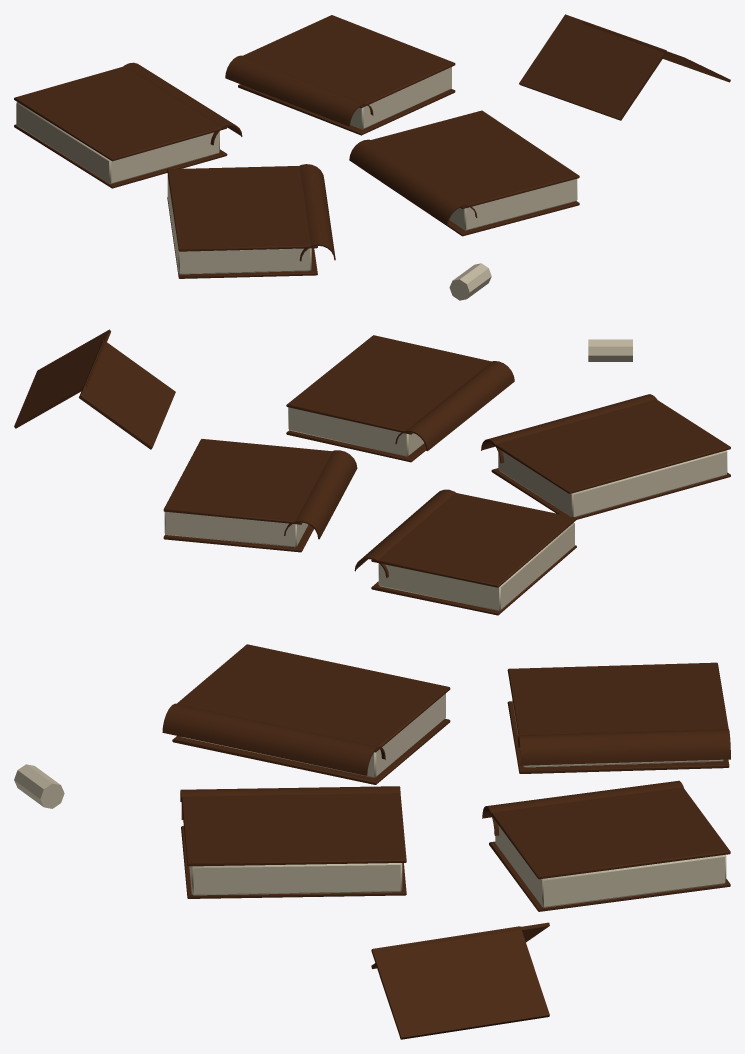
File: buecher_kaputt.glb
The picture shows the model from 3 angles, top to bottom: view 1: azimuth 30°, elevation 25°; view 2: azimuth 150°, elevation 25°; view 3: azimuth 270°, elevation 25°; orthographic projection. The views are drawn at different scales.
Visible parts, largest first — view 1: buecher_kaputt; view 2: buecher_kaputt; view 3: buecher_kaputt.
Boxes of the visible parts, x1,y1,x2,y2 form: buecher_kaputt: [14, 14, 730, 300]; buecher_kaputt: [14, 329, 730, 615]; buecher_kaputt: [14, 644, 730, 1039].
Bounding box in the file's own units: 0.9707 × 0.0721 × 0.8169.
